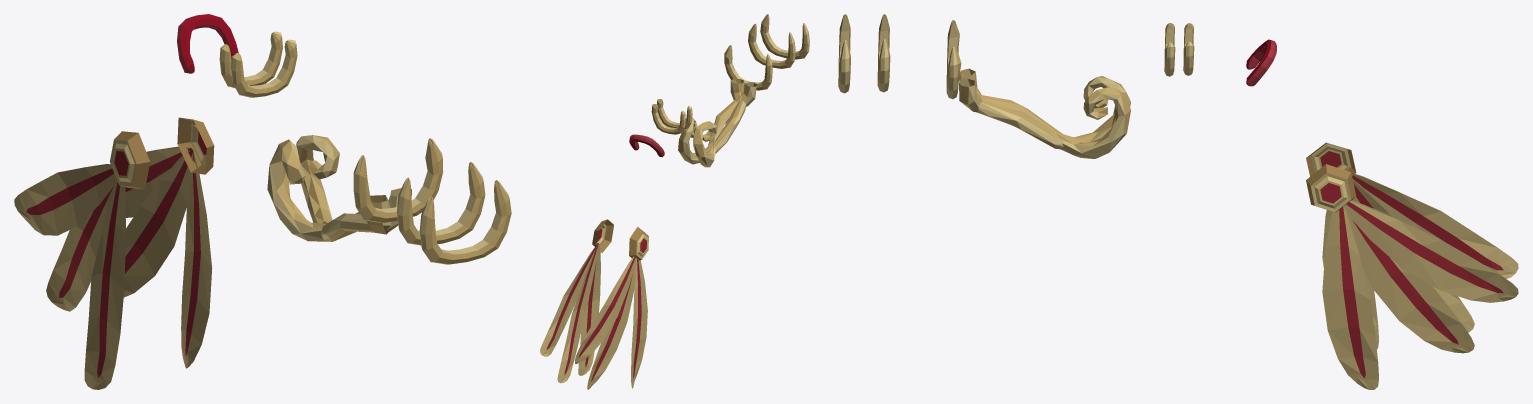
File: smallCrossbowGreekHandle.glb
3 renders of one model, left to right at view 1: azimuth 30°, elevation 25°; view 2: azimuth 150°, elevation 25°; view 3: azimuth 270°, elevation 25°, orthographic. The views are drawn at different scales.
Visible parts, largest first — view 1: smallCrossbowGreekHandle; view 2: smallCrossbowGreekHandle; view 3: smallCrossbowGreekHandle.
Part boxes in pixels (left/top/right/bottom): smallCrossbowGreekHandle: left=14, top=14, right=511, bottom=389; smallCrossbowGreekHandle: left=540, top=14, right=809, bottom=389; smallCrossbowGreekHandle: left=838, top=14, right=1518, bottom=389.
Bounding box in the file's own units: 0.0761 × 0.3186 × 0.5685.
